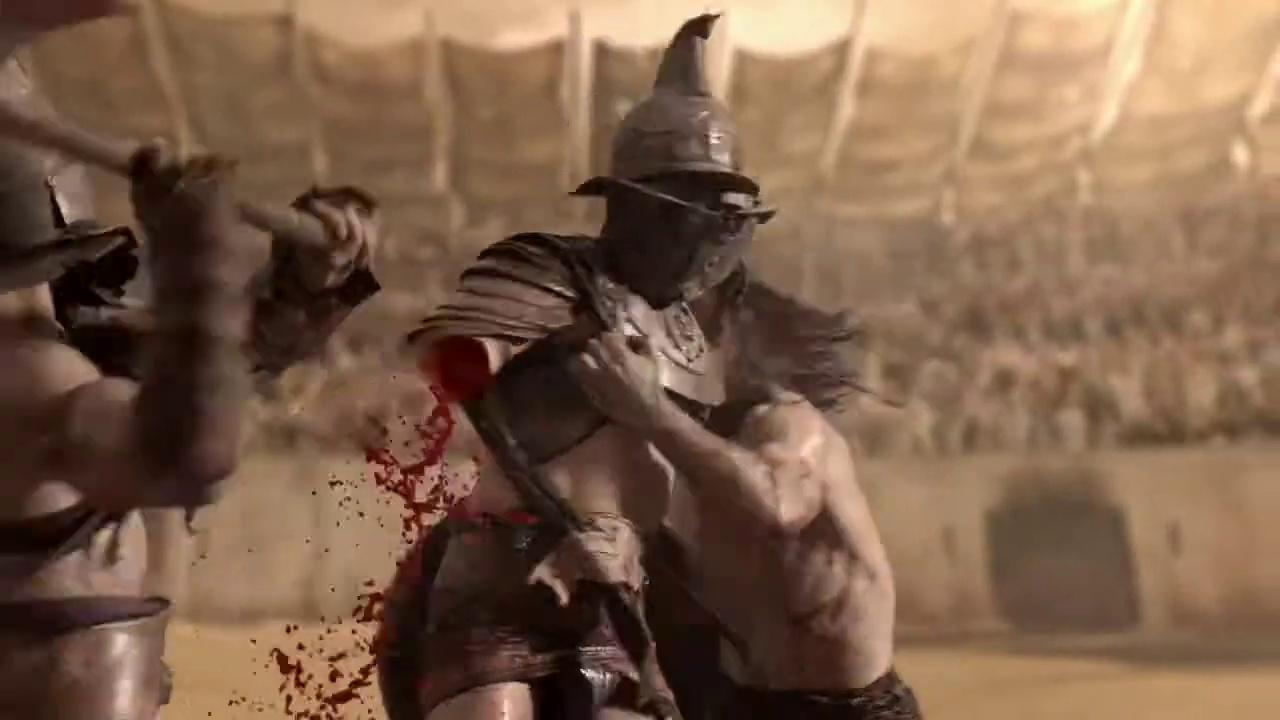Fire: (162, 330, 533, 720)
